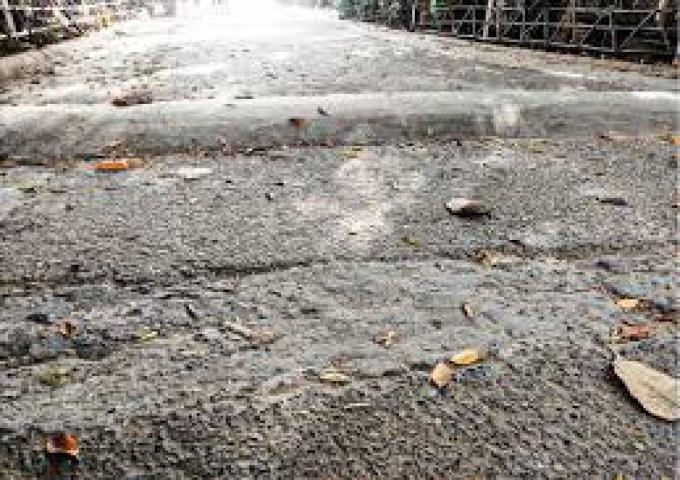speedbreaker: (2, 84, 678, 156)
